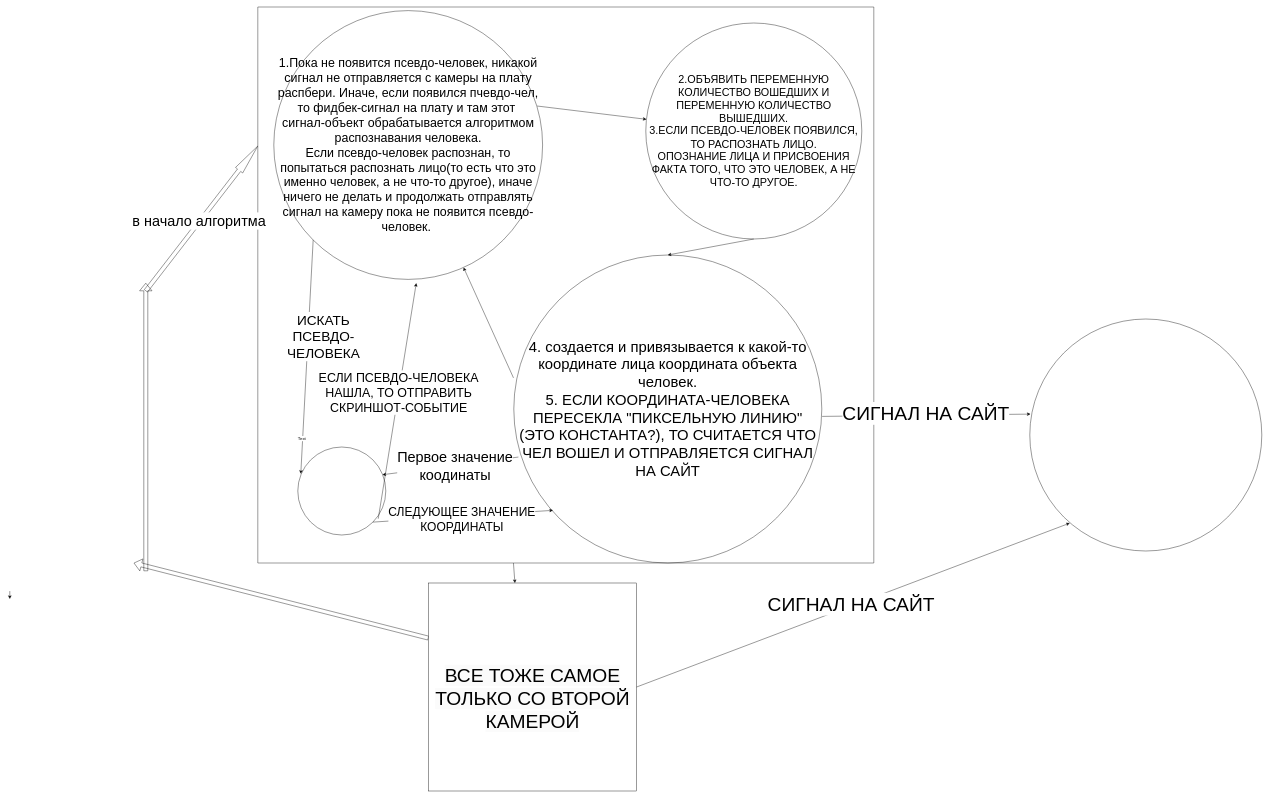
Image size: 1269x798. Some labels were removed from this diagram. Each missing label, with the centre of its shape:
"КАМЕРА" belongs at point (341, 491).
"САЙТ С 2 СЧЕТЧИКАМИ: СКОЛЬКО ЧЕЛОВ ЗАШЛО(КАМЕРА 1) И ВЫШЛО(КАМЕРА 2)" belongs at point (1145, 435).
